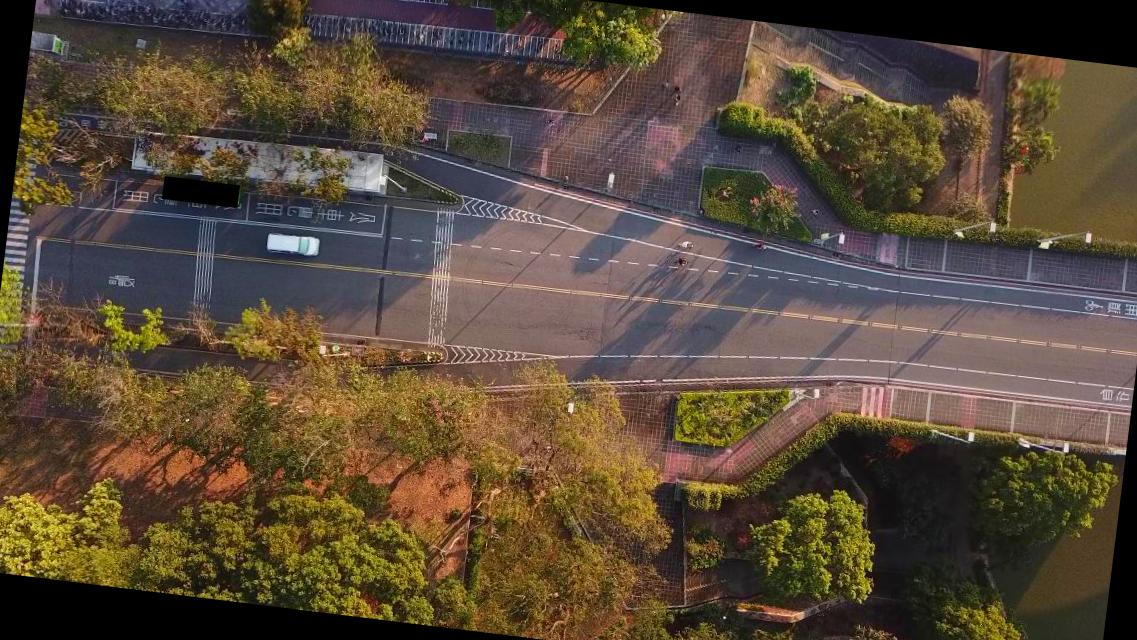vehicle: (265, 231, 319, 257)
